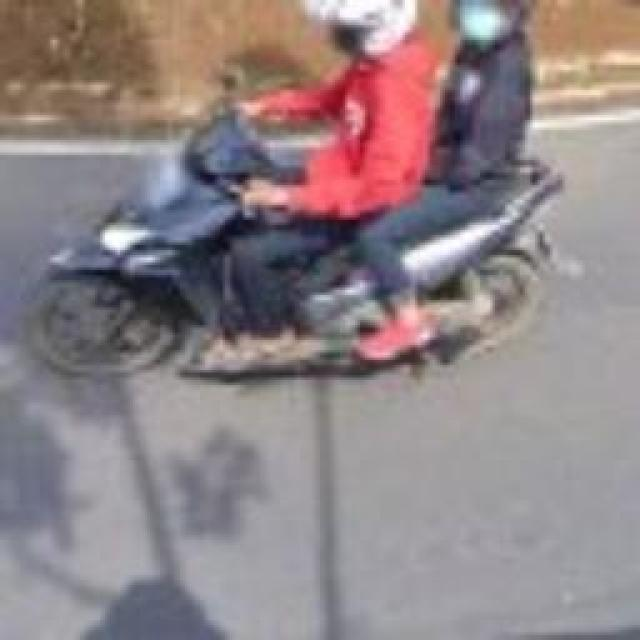motorbike: (29, 3, 574, 395)
